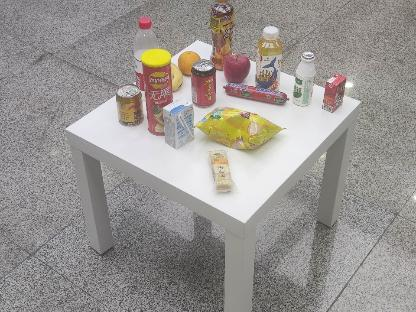Can: (190, 58, 218, 106), (116, 83, 144, 127)
Others: (140, 48, 172, 136), (154, 94, 200, 150), (320, 70, 348, 116)
Plastic Bottle: (293, 50, 315, 106)
Plastic Packaging: (198, 106, 286, 148)
